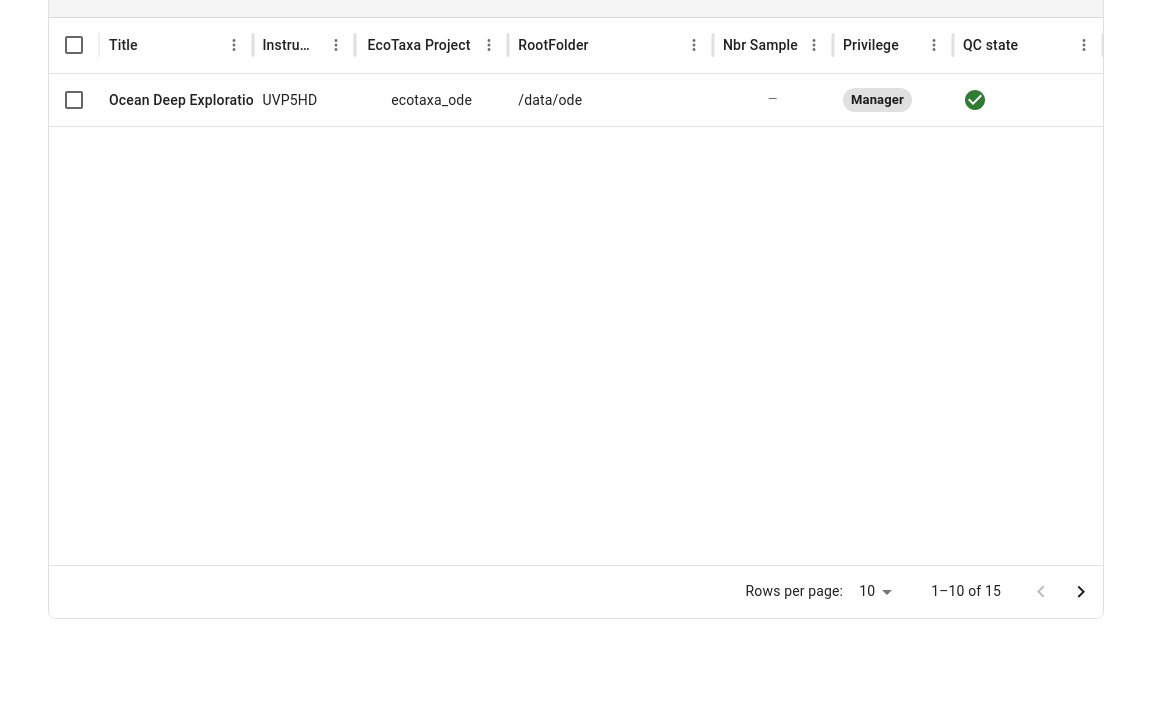
ProjectsPage (Functional) › TC-G6: should request next page and render new rows when pagination changes
(page scrolled)
Expected: the text "Ocean Deep Exploration" is shown, [109,92,252,108]
Click the button named "Go to next page" at (1081, 592), box [1061,572,1101,612]
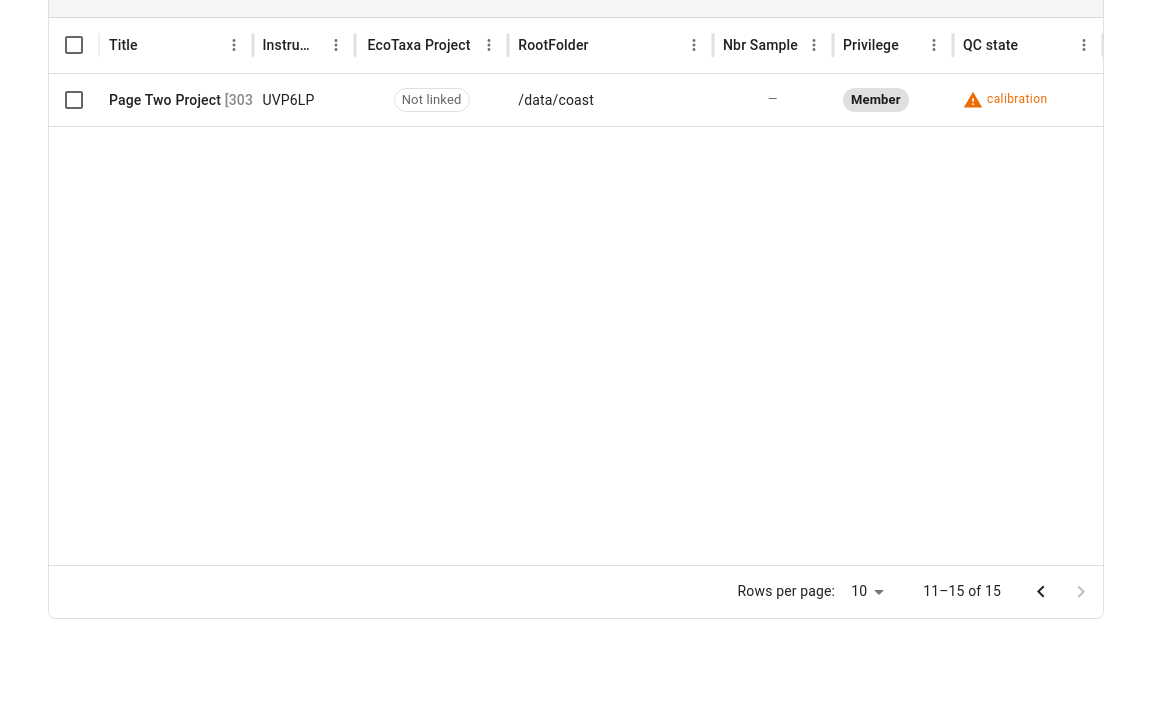
Expected: the text "Page Two Project" is shown, [109,92,221,108]
